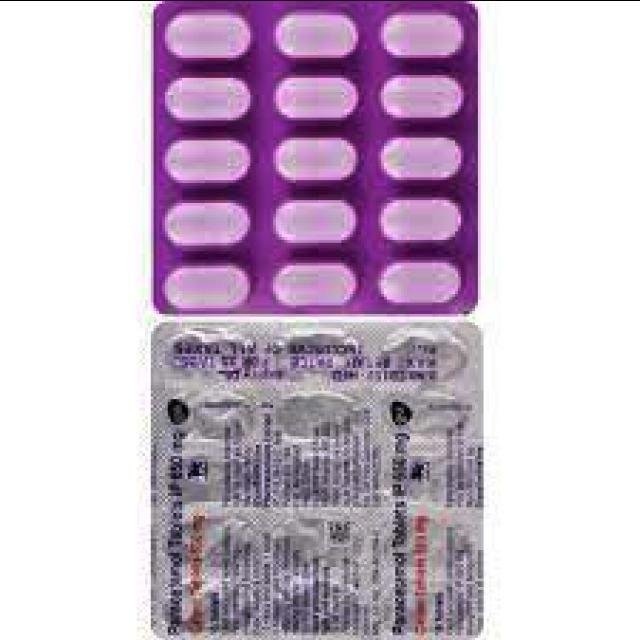authentic: (138, 310, 490, 640), (142, 0, 481, 315)
